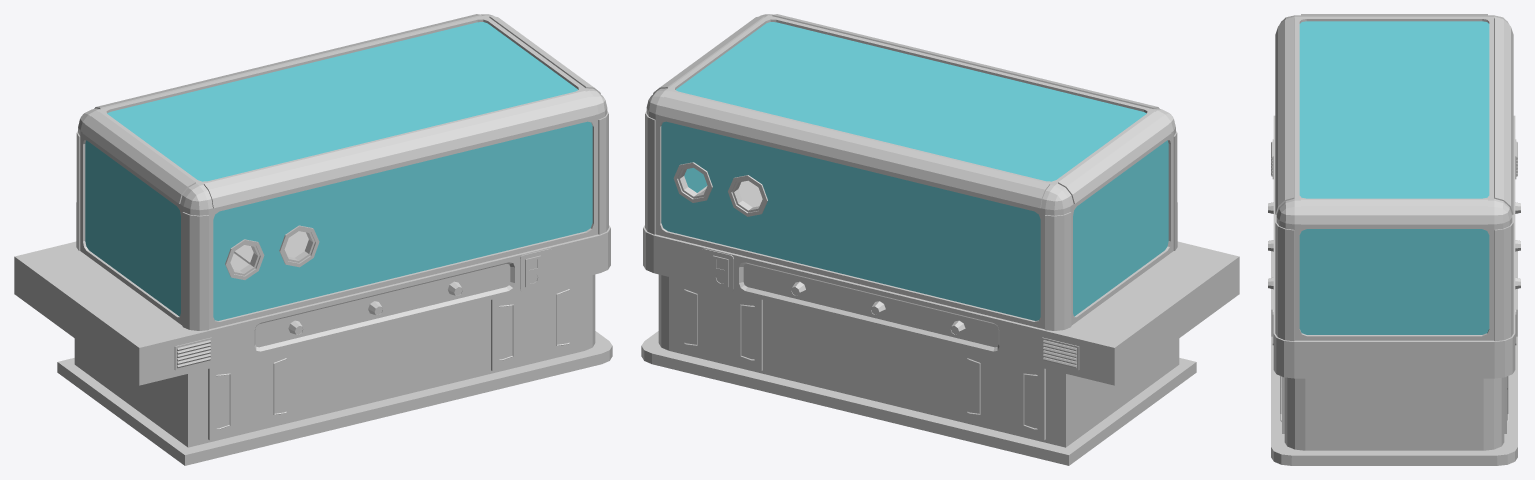
File: SM_MedicalBox.glb
The picture shows the model from 3 angles, left to right: view 1: azimuth 30°, elevation 25°; view 2: azimuth 150°, elevation 25°; view 3: azimuth 270°, elevation 25°; orthographic projection. The views are drawn at different scales.
Parts seen in each view (by area): view 1: SM_MedicalBox; view 2: SM_MedicalBox; view 3: SM_MedicalBox.
Part boxes in pixels (<box>): SM_MedicalBox: <box>14,14,612,465</box>; SM_MedicalBox: <box>641,14,1239,465</box>; SM_MedicalBox: <box>1268,14,1520,465</box>.
Bounding box in the file's own units: 2.28 × 1.21 × 1.07.
